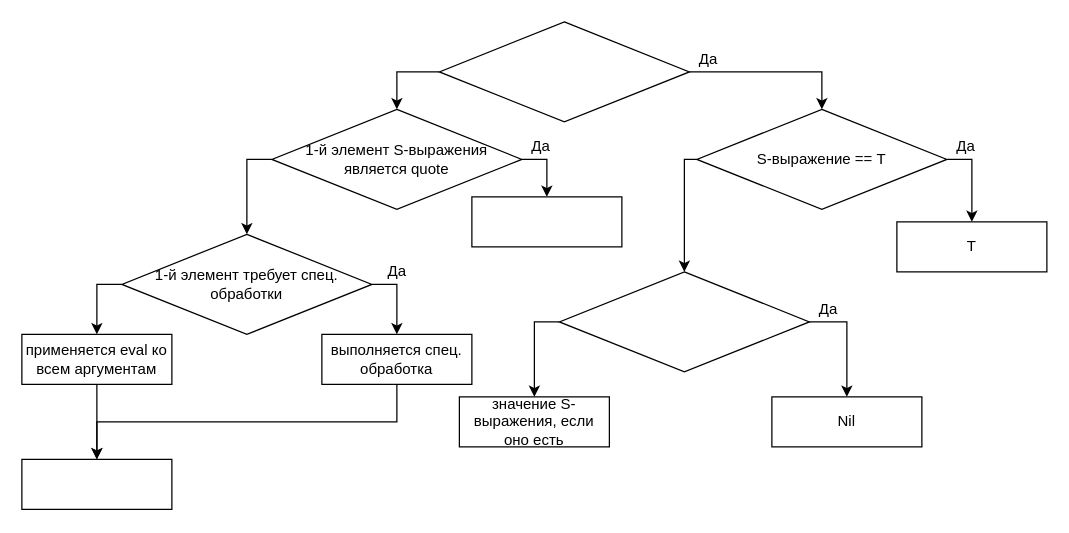
This 1069x533 diagram has some shape labels left out. Each missing label, with the centre of its shape:
"S-выражение" goes at (546,221).
"S-выражение - атом" goes at (563,71).
"S-выражение == Nil" goes at (683,321).
"применяется 1-й элемента к аргументам" goes at (96,483).
